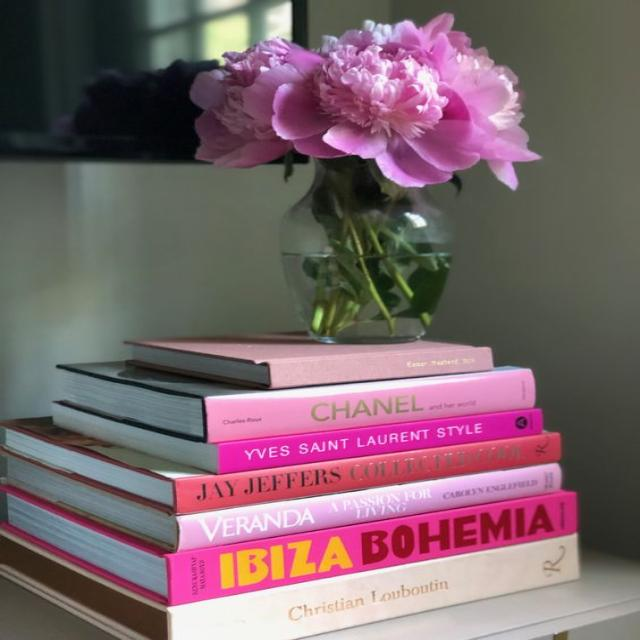book: (167, 493, 578, 609), (171, 536, 580, 640), (177, 464, 560, 551), (174, 434, 559, 512), (204, 368, 533, 444), (218, 409, 542, 474), (274, 349, 493, 387)
flowers: (191, 14, 539, 344)
